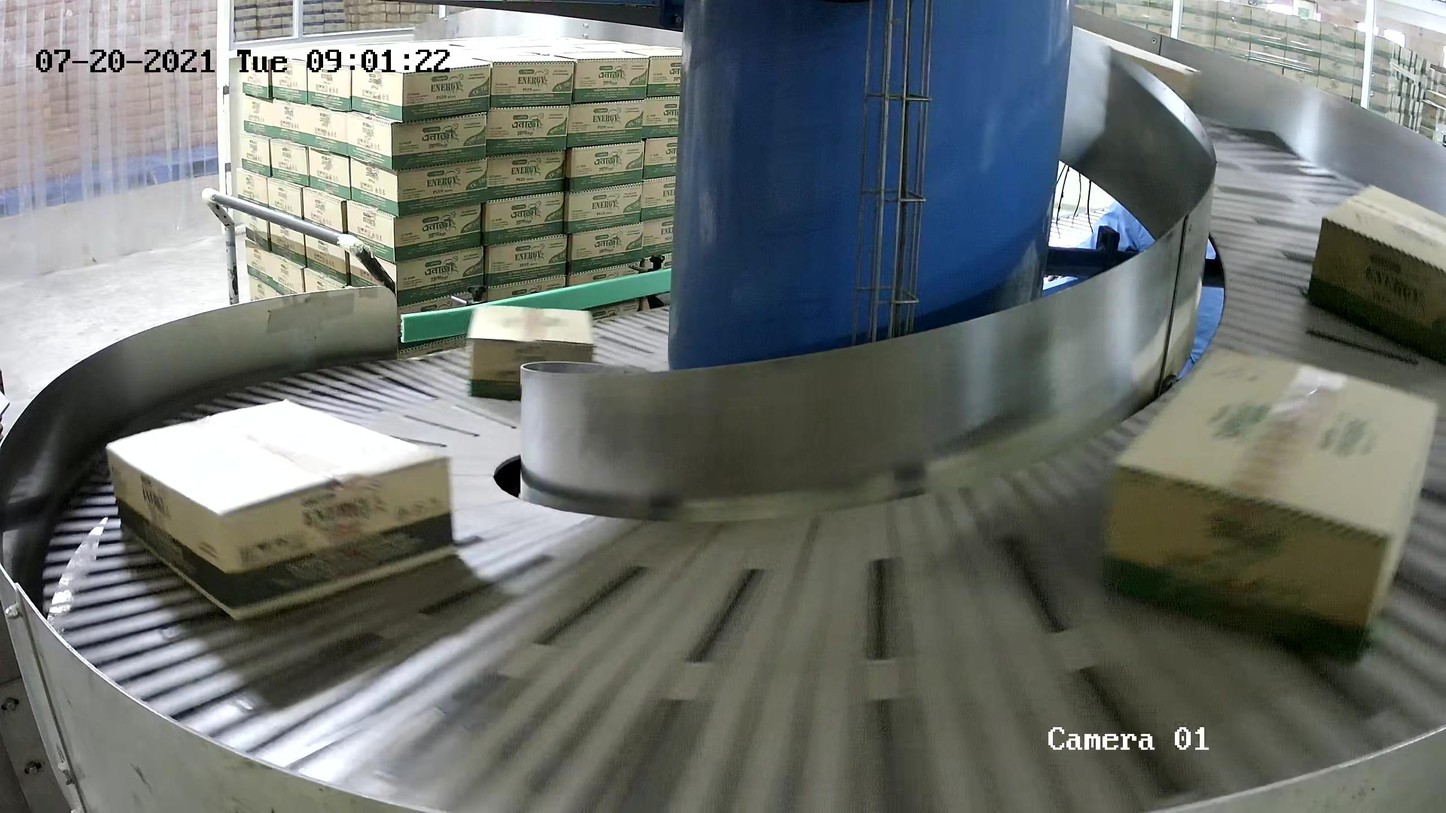Box: (1098, 343, 1442, 667), (104, 397, 459, 620), (1305, 182, 1446, 368), (466, 304, 598, 398)
